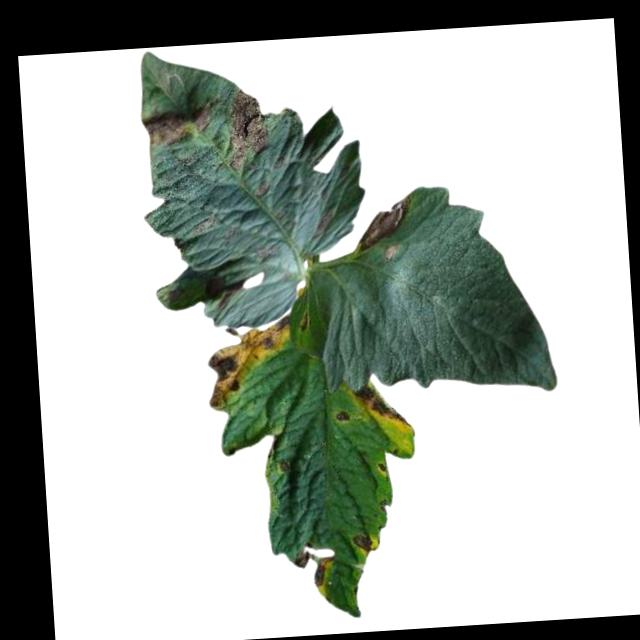Early_blight: (205, 313, 305, 410), (140, 103, 222, 154), (224, 88, 272, 175), (354, 190, 417, 256), (352, 382, 416, 430), (291, 549, 331, 591), (351, 532, 377, 557), (336, 410, 353, 428)
